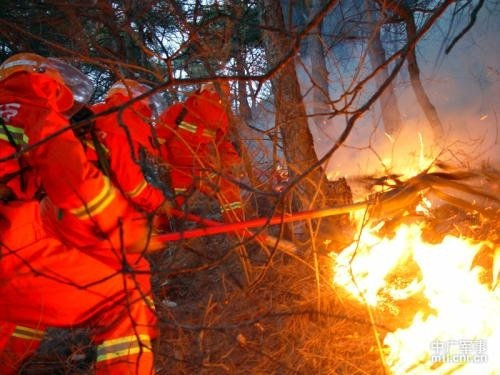fire: (331, 202, 500, 373), (373, 135, 439, 192)
